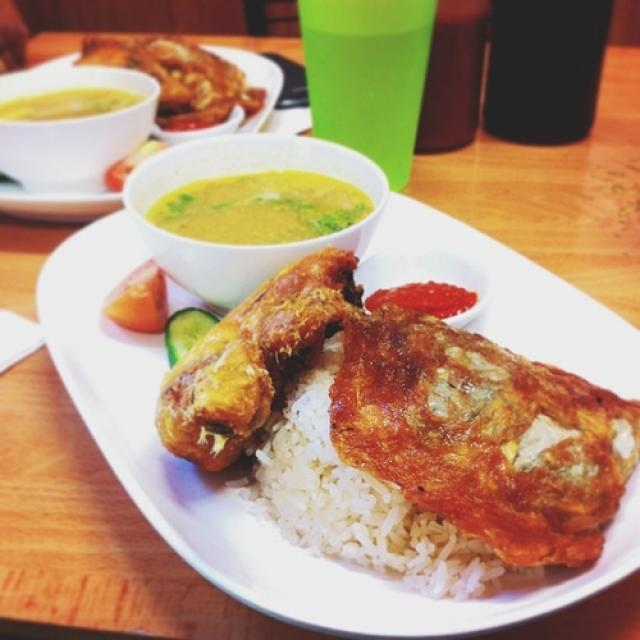米饭主食: (36, 40, 612, 604)
